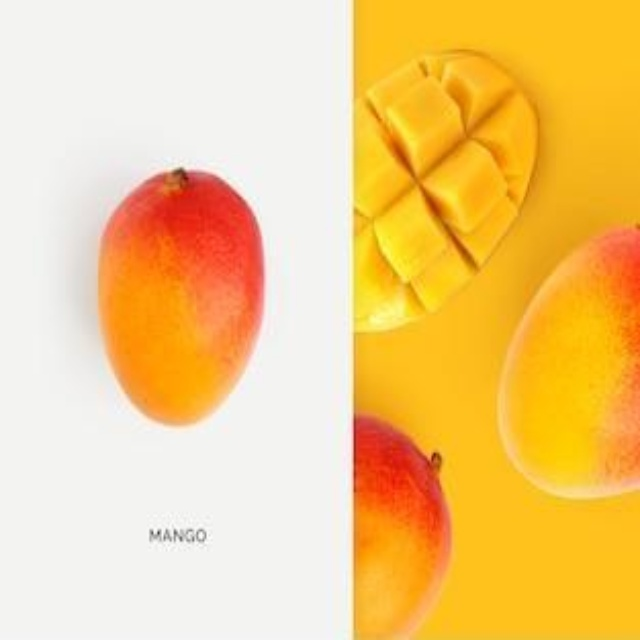mango: (104, 167, 276, 433), (493, 205, 639, 498), (329, 405, 468, 639)
